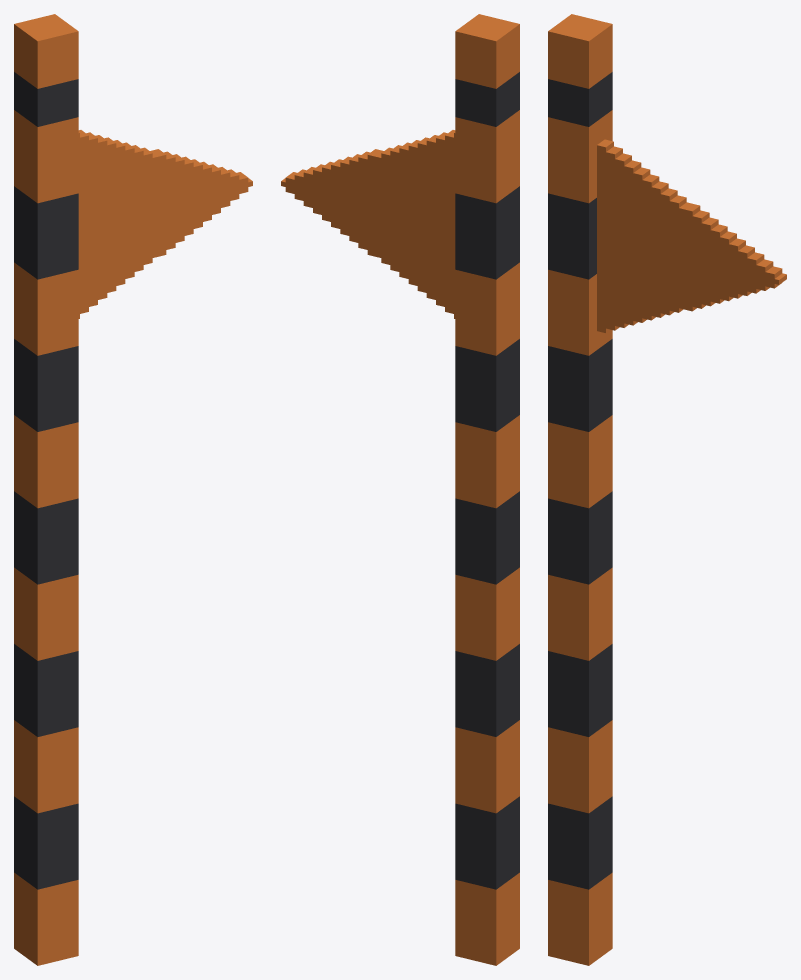
File: gate_pole_checkpoint.obj
3 renders of one model, left to right at view 1: azimuth 30°, elevation 25°; view 2: azimuth 150°, elevation 25°; view 3: azimuth 330°, elevation 25°, orthographic.
Size of the model in its own units: 1.23 by 4.85 by 0.225.
Materials: 1 (1 with a texture image).
